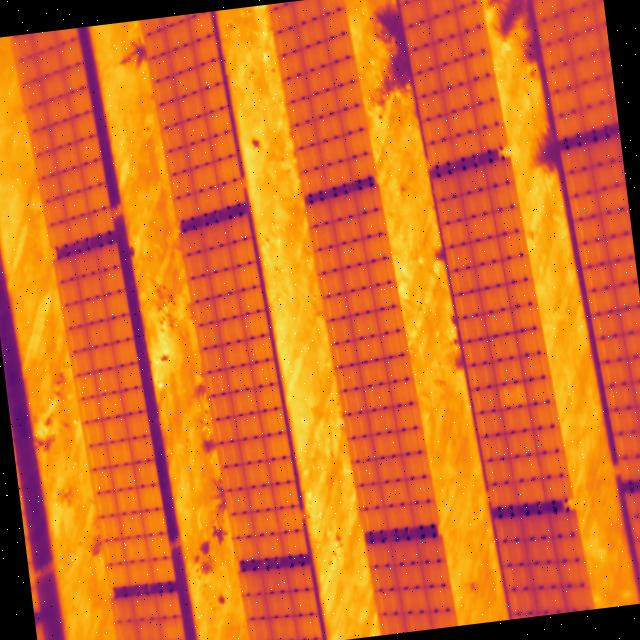Hotspot: (498, 378, 526, 408)
